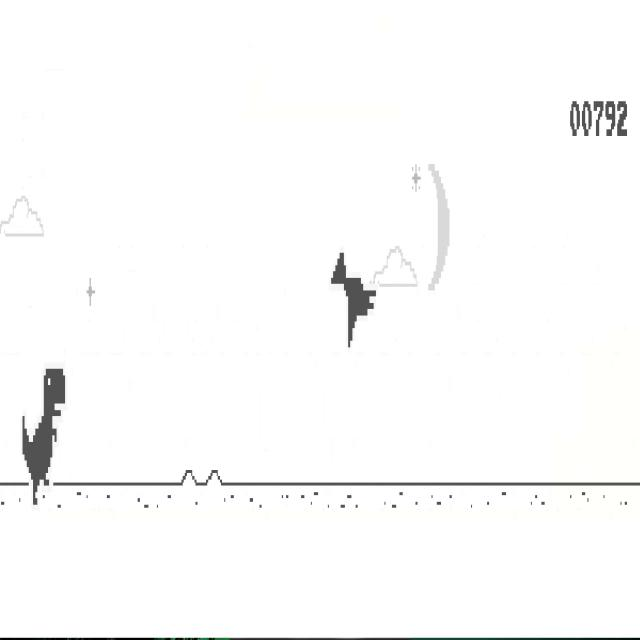dino: (22, 368, 65, 506)
ptero: (331, 250, 376, 349)
